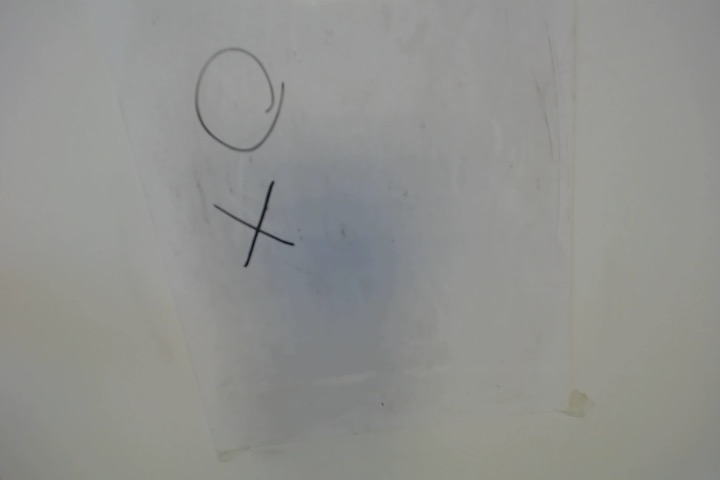0: (189, 44, 293, 157)
x: (205, 170, 298, 269)
